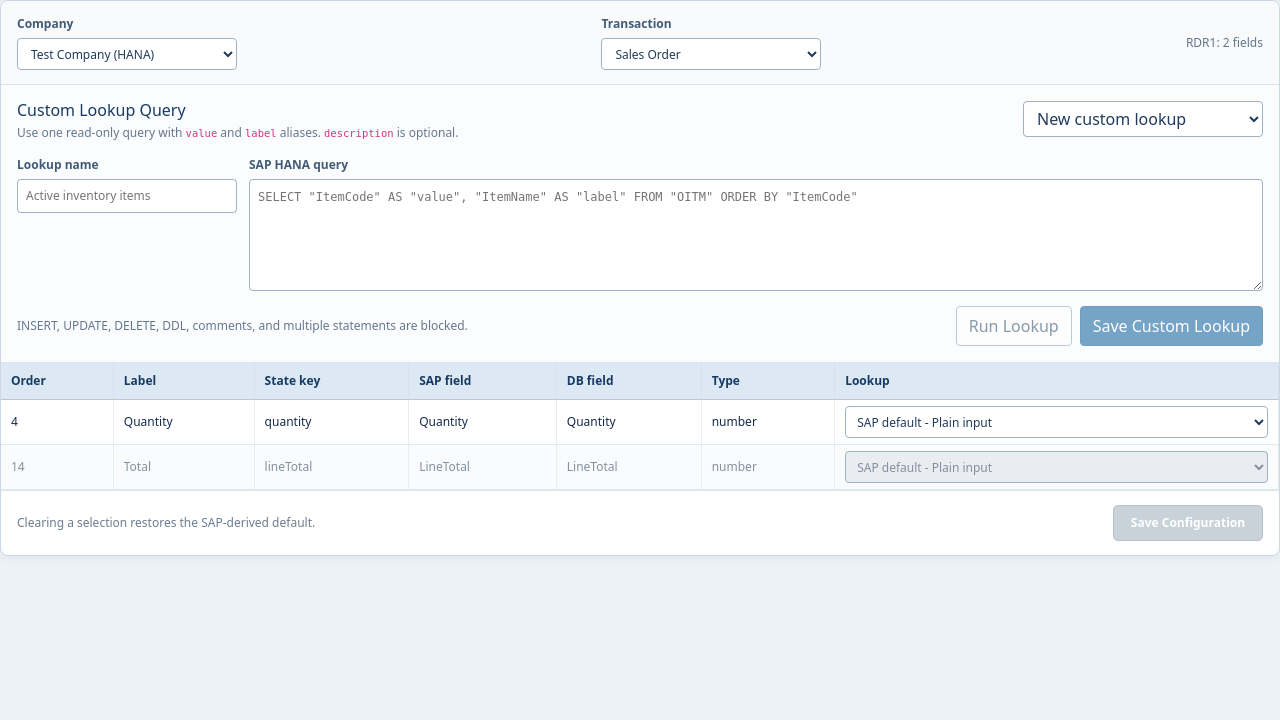
Test: runs a custom HANA lookup and displays every returned preview row
The width and height of the screenshot is (1280, 720).
Expected: the heading "Custom Lookup Query" is shown, x1=17 y1=99 x2=186 y2=121
In the field labelled "Lookup name": (127, 196) x1=17 y1=179 x2=237 y2=213, type "My Items"
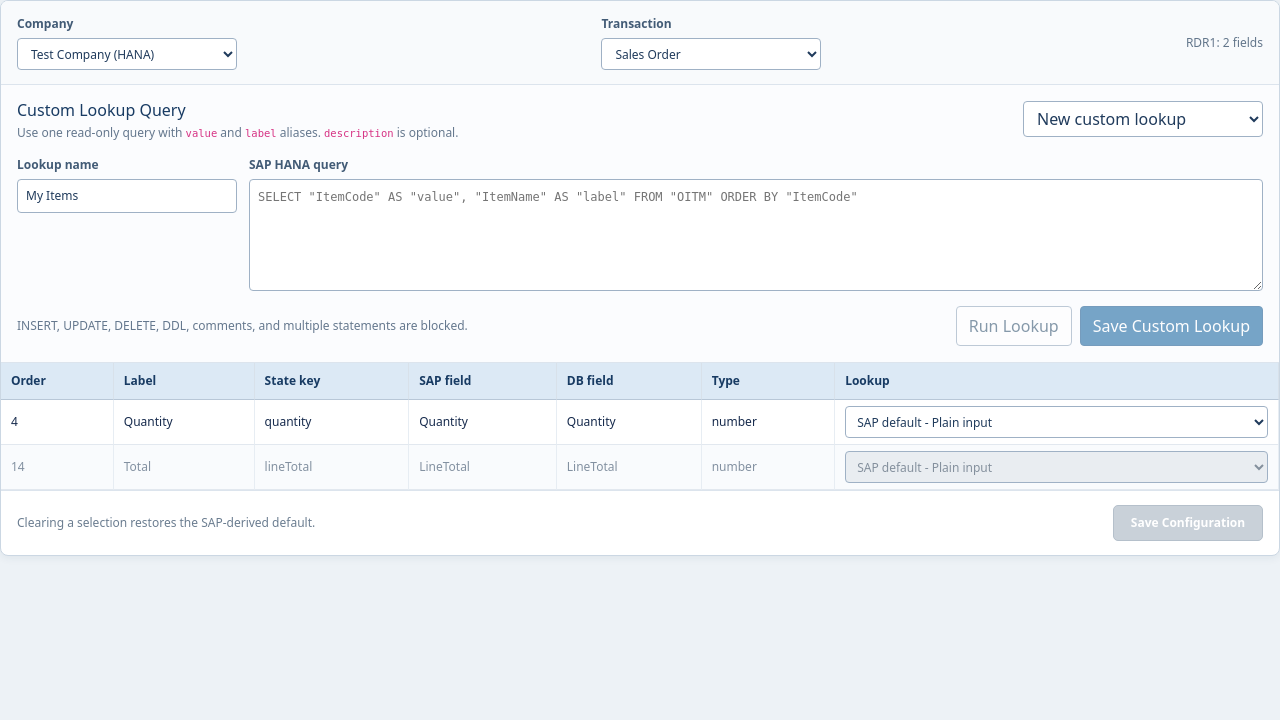
Replace the text in the text box labelled "SAP HANA query" with "SELECT 1 AS value, 1 AS label": (756, 235) x1=249 y1=179 x2=1263 y2=291
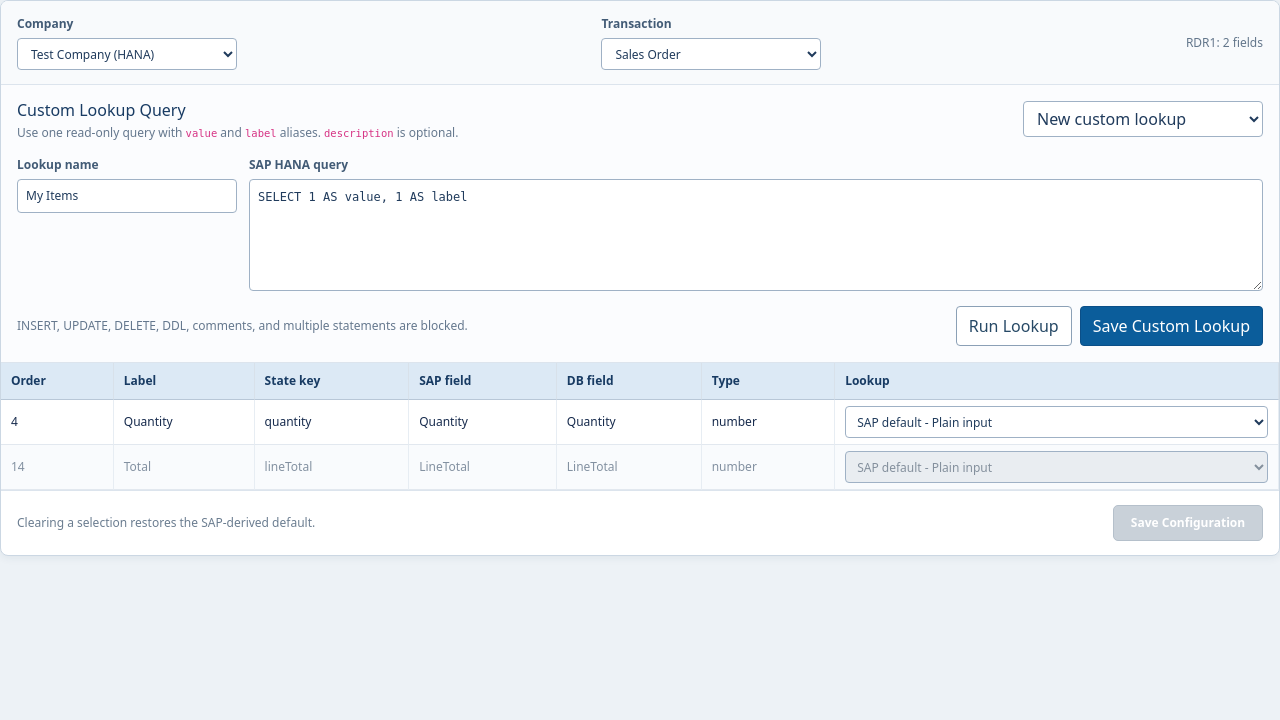
Click the button "Run Lookup": (1014, 326) x1=956 y1=306 x2=1072 y2=346
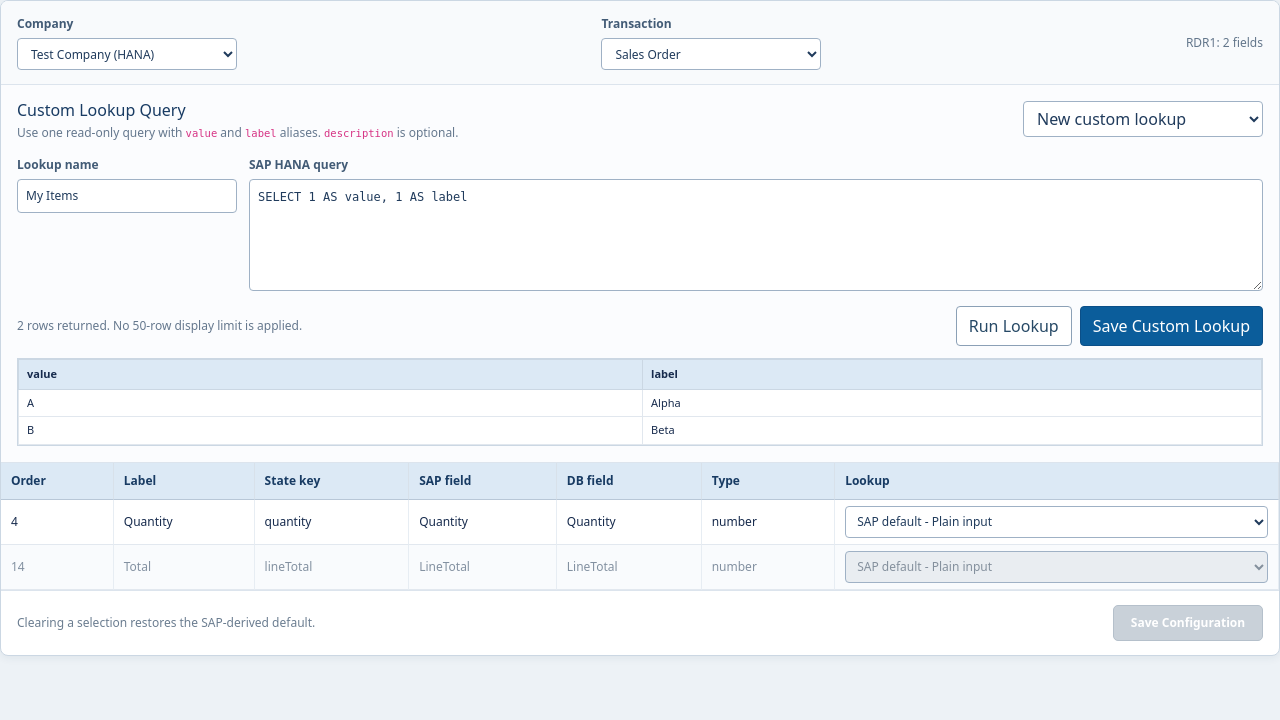
Expected: the text "Alpha" is shown, x1=643 y1=389 x2=1262 y2=417
Expected: the text "Beta" is shown, x1=643 y1=417 x2=1262 y2=444
Expected: the text "2 rows returned. No 50-row display limit is applied." is shown, x1=17 y1=317 x2=302 y2=334
